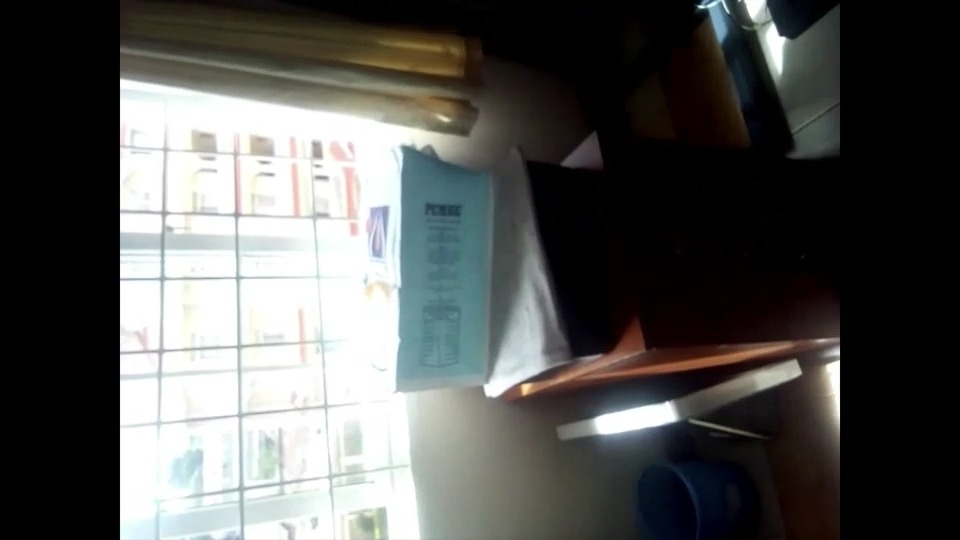wheat_flour_blue_label: (357, 144, 491, 394)
